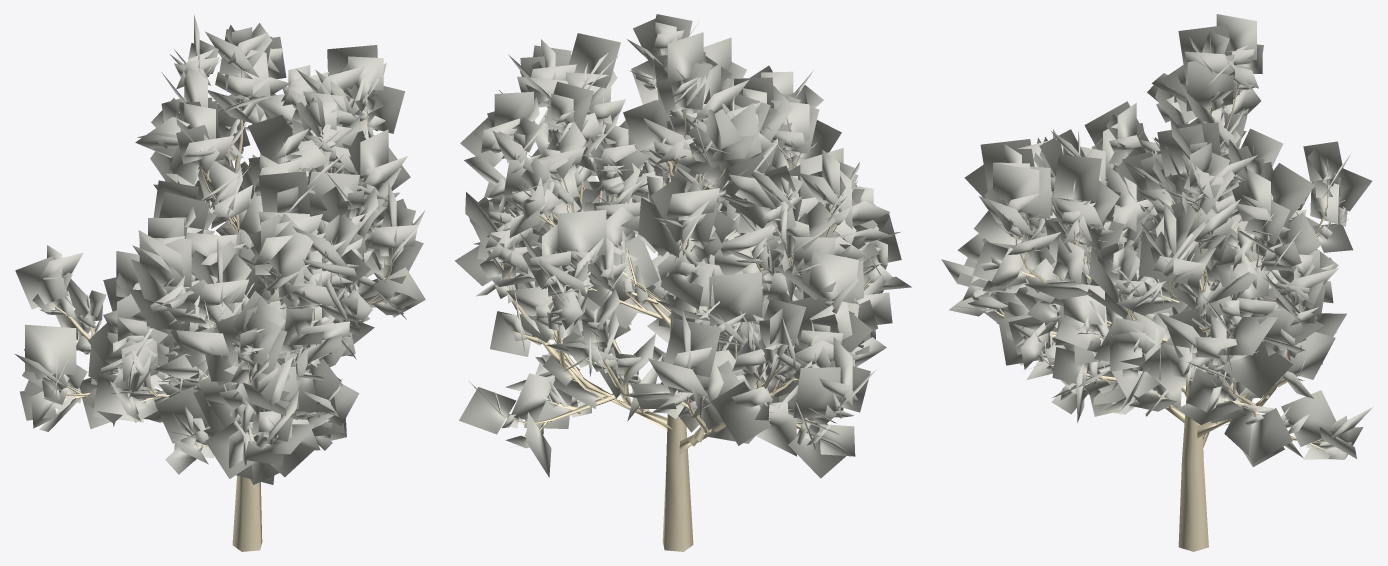
The model's file is oak_large_v1_lod2.glb.
3 views of the same model, side by side, from view 1: azimuth 30°, elevation 25°; view 2: azimuth 150°, elevation 25°; view 3: azimuth 270°, elevation 25° (orthographic). The views are drawn at different scales.
Visible parts, largest first — view 1: Leaves, Branches; view 2: Leaves, Branches; view 3: Leaves, Branches.
Boxes of the visible parts, left/top/right/bottom form: Leaves: left=15, top=14, right=425, bottom=484; Branches: left=49, top=69, right=393, bottom=551; Leaves: left=454, top=14, right=911, bottom=478; Branches: left=501, top=51, right=879, bottom=551; Leaves: left=941, top=14, right=1372, bottom=466; Branches: left=986, top=65, right=1338, bottom=551.
Size of the model in its own units: 81.37 by 106 by 81.37.
